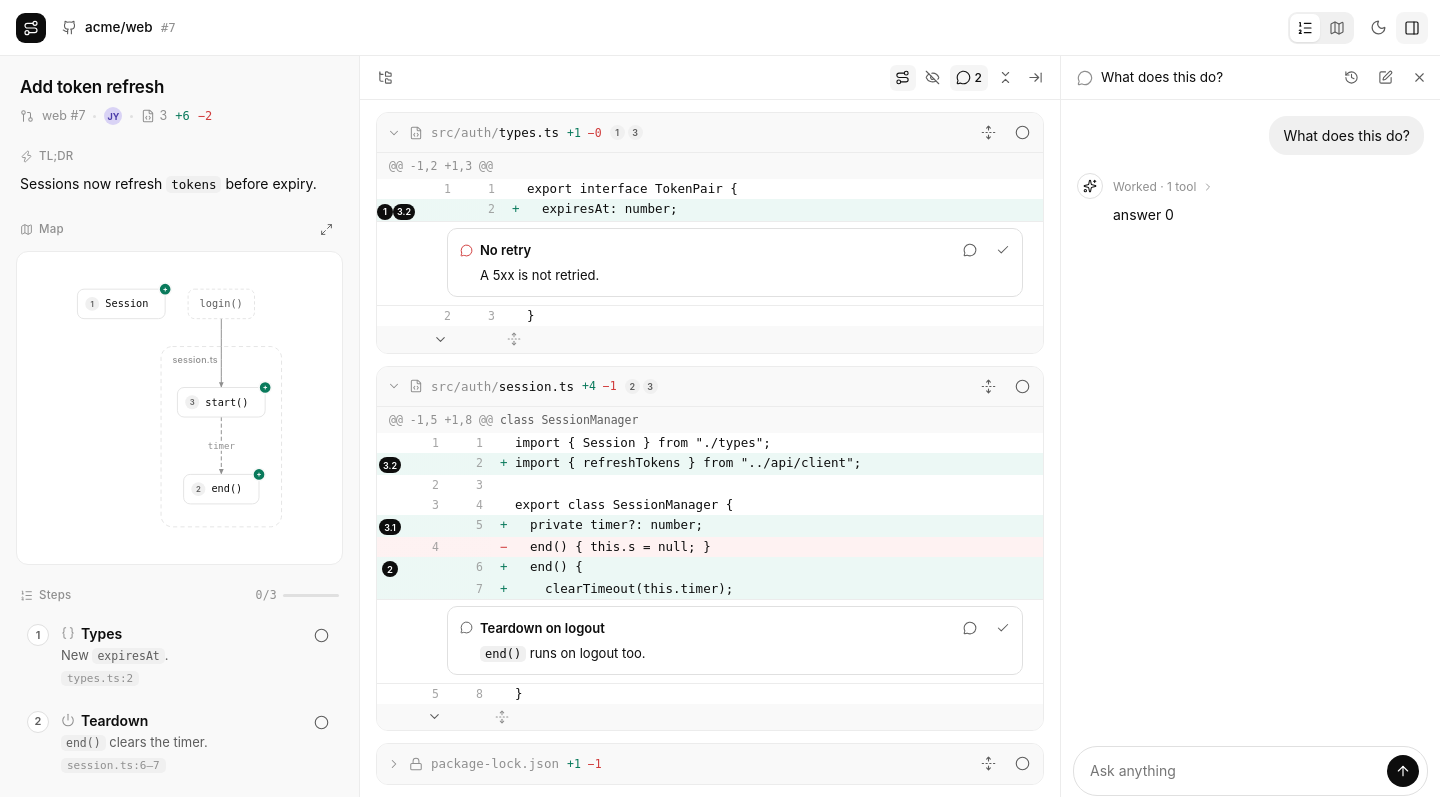
Test: suggestion chip asks
Check: the heading "Add token refresh" is shown, box [20,77,164,97]
Click the button titled "New chat" at (1385, 78), box [1372,64,1398,90]
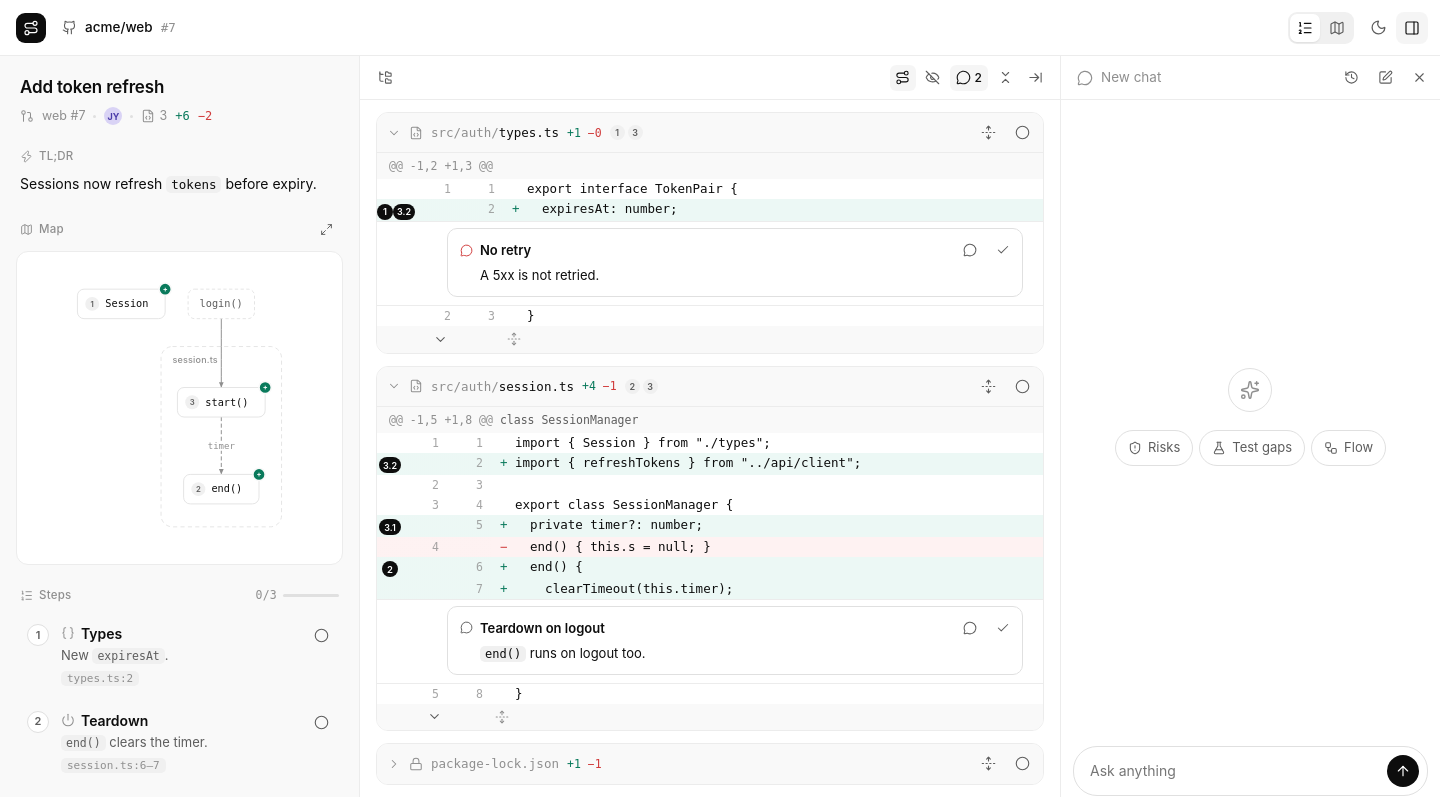
Click the button "Risks" at (1154, 448), box [1115,430,1193,466]
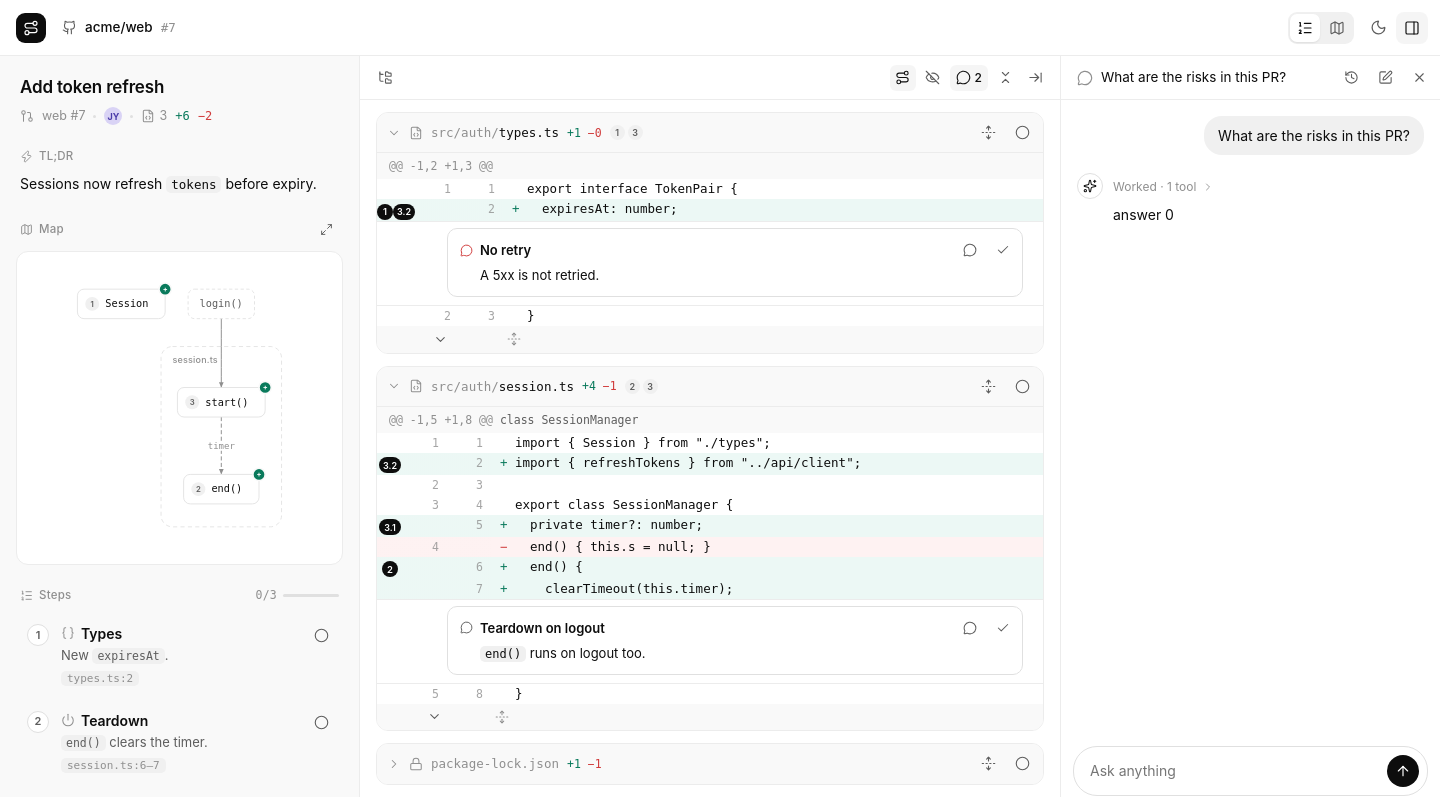
Check: the text with class "bubble" reads "What are the risks in this PR?", box [1218,127,1410,144]
